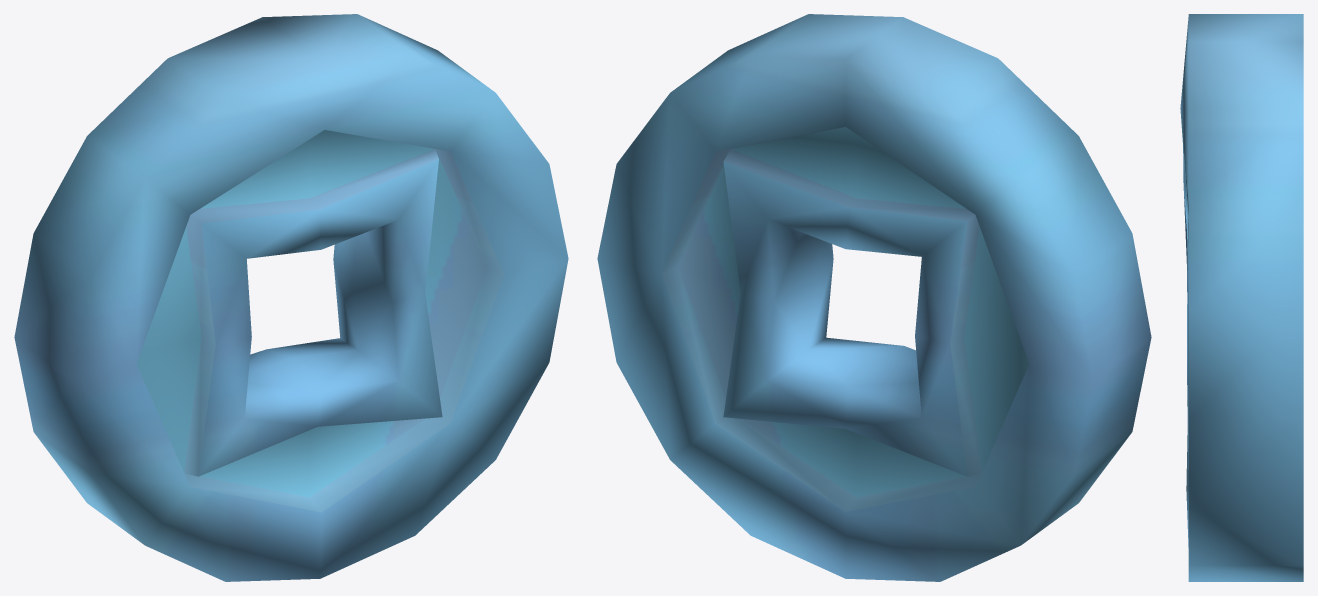
File: Coin.fbx
3 renders of one model, left to right at view 1: azimuth 30°, elevation 25°; view 2: azimuth 150°, elevation 25°; view 3: azimuth 270°, elevation 25°, orthographic.
Visible parts, largest first — view 1: prop_coin001; view 2: prop_coin001; view 3: prop_coin001.
Boxes of the visible parts, bbox=[...] form: prop_coin001: bbox=[14, 14, 568, 581]; prop_coin001: bbox=[597, 14, 1151, 581]; prop_coin001: bbox=[1180, 14, 1303, 581].
Size of the model in its own units: 0.2958 by 0.2958 by 0.0642.
